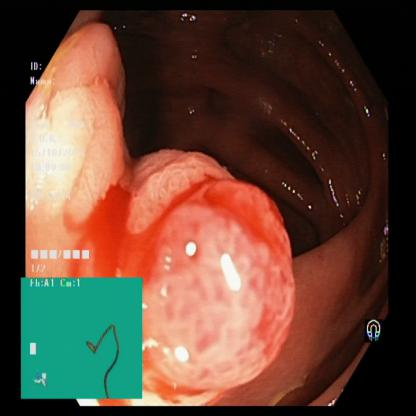Labels: (22, 238, 141, 399), (26, 53, 57, 92), (362, 304, 389, 348)
Polyps: (135, 154, 284, 378), (52, 76, 127, 218)
